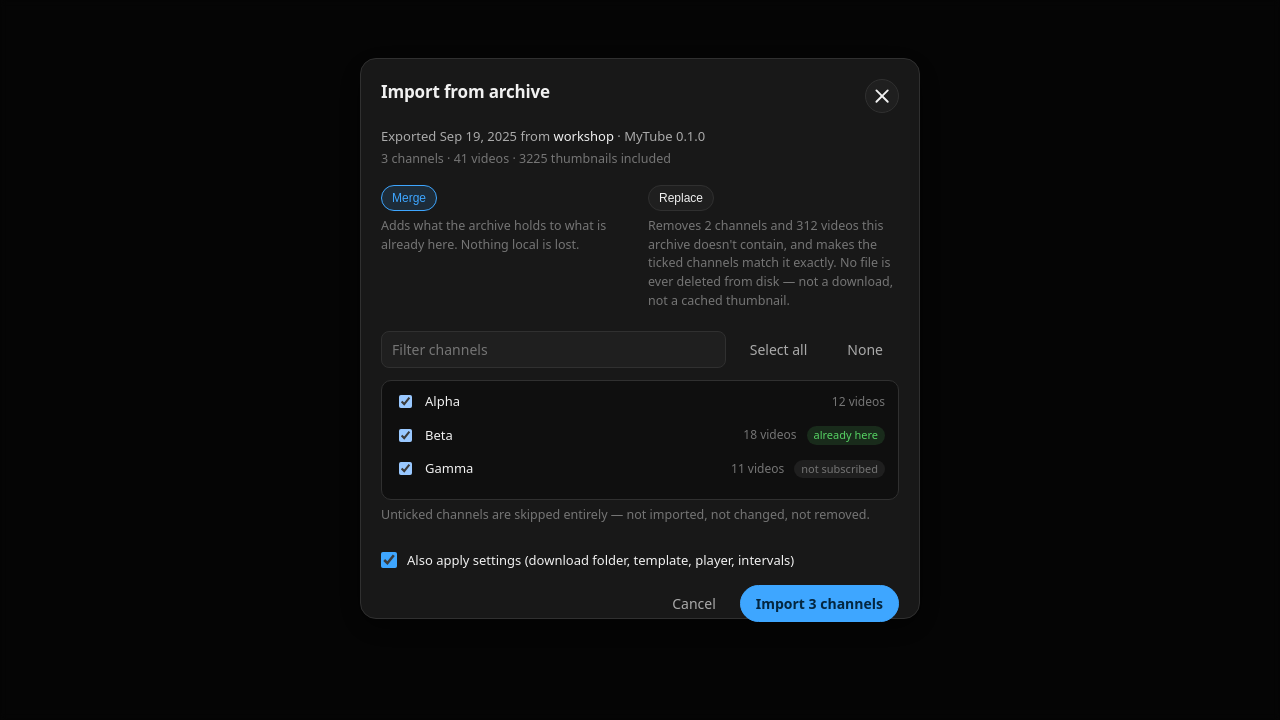
Test: TransferDialog › promises in both places that replacing deletes nothing from disk
Expected: the text "No file is ever deleted from disk" is shown, [648, 217, 893, 309]
Click the button "Replace". click: (681, 198)
box: [648, 185, 714, 211]
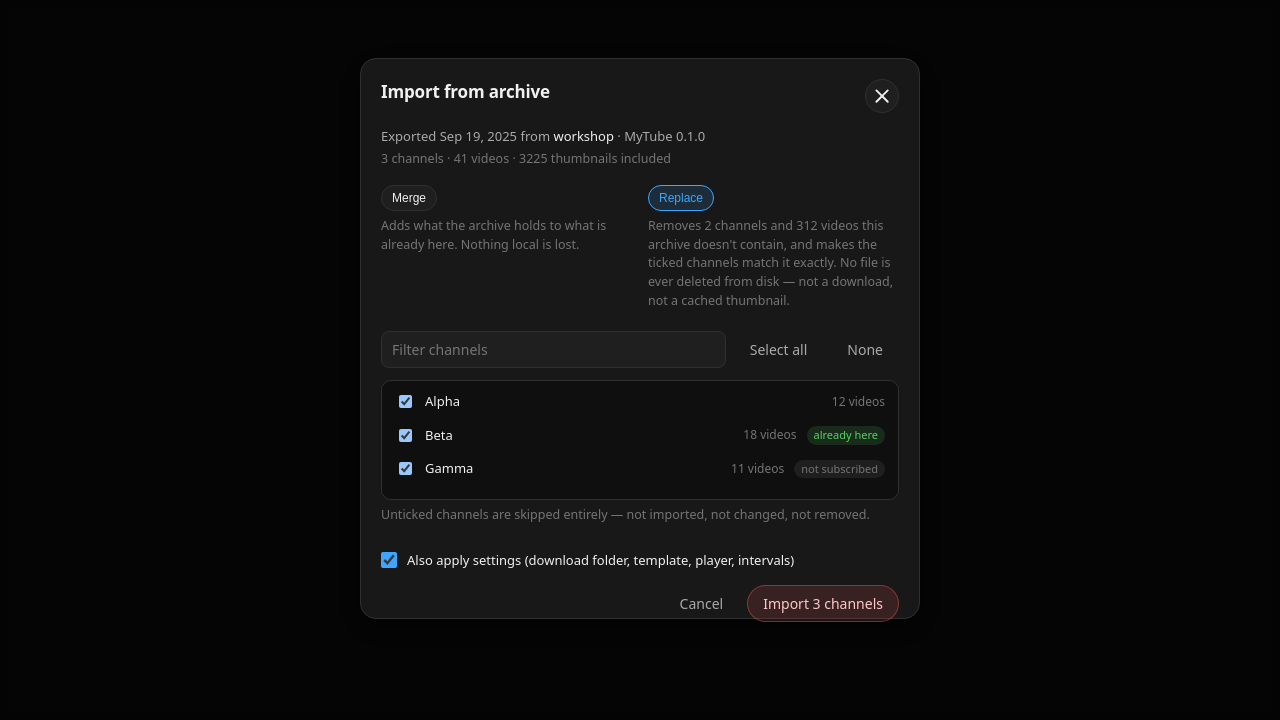
Click the button "Import 3 channels". click: (823, 603)
box: [747, 585, 899, 622]
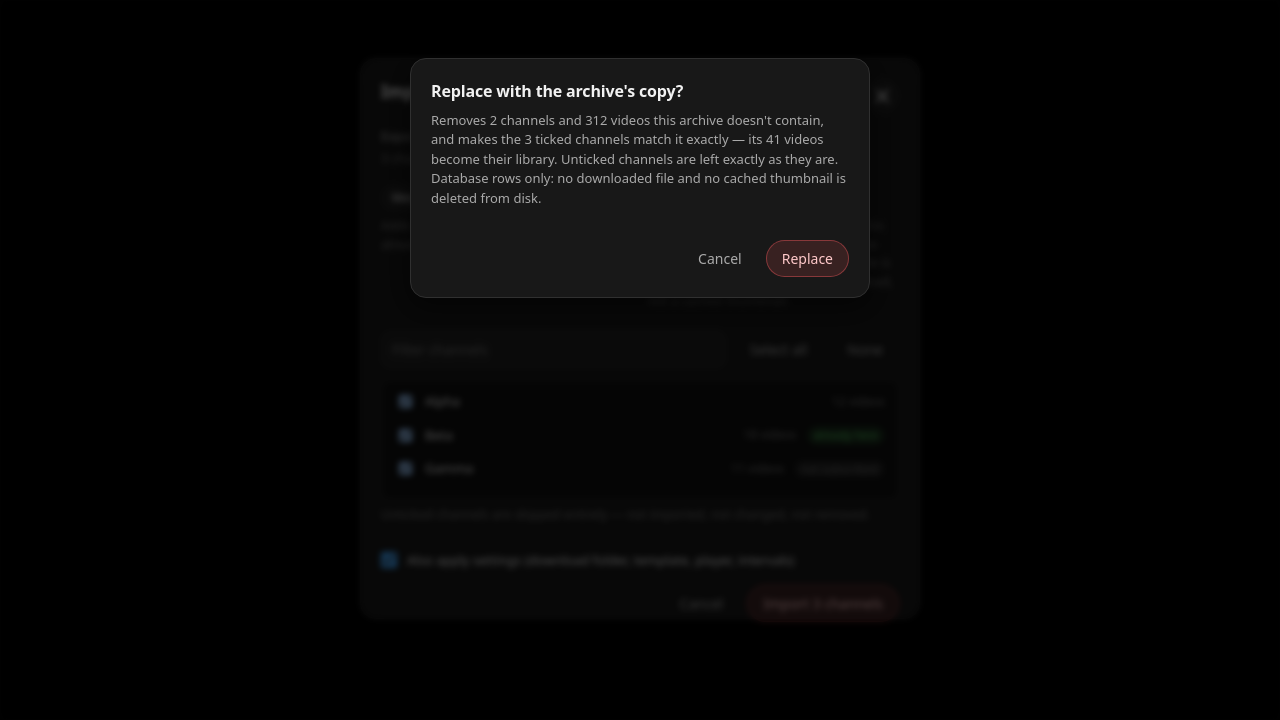
Result: the text "no downloaded file and no cached thumbnail is deleted from disk" is shown at [431, 111, 846, 207]
